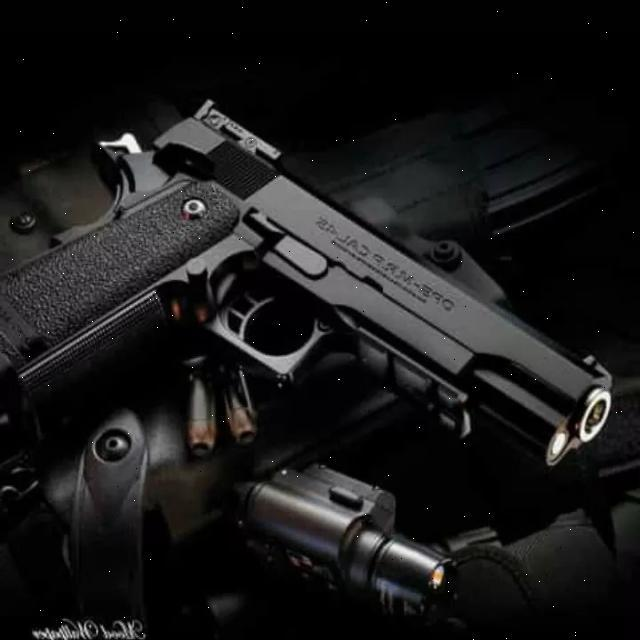gun: (0, 80, 626, 479)
